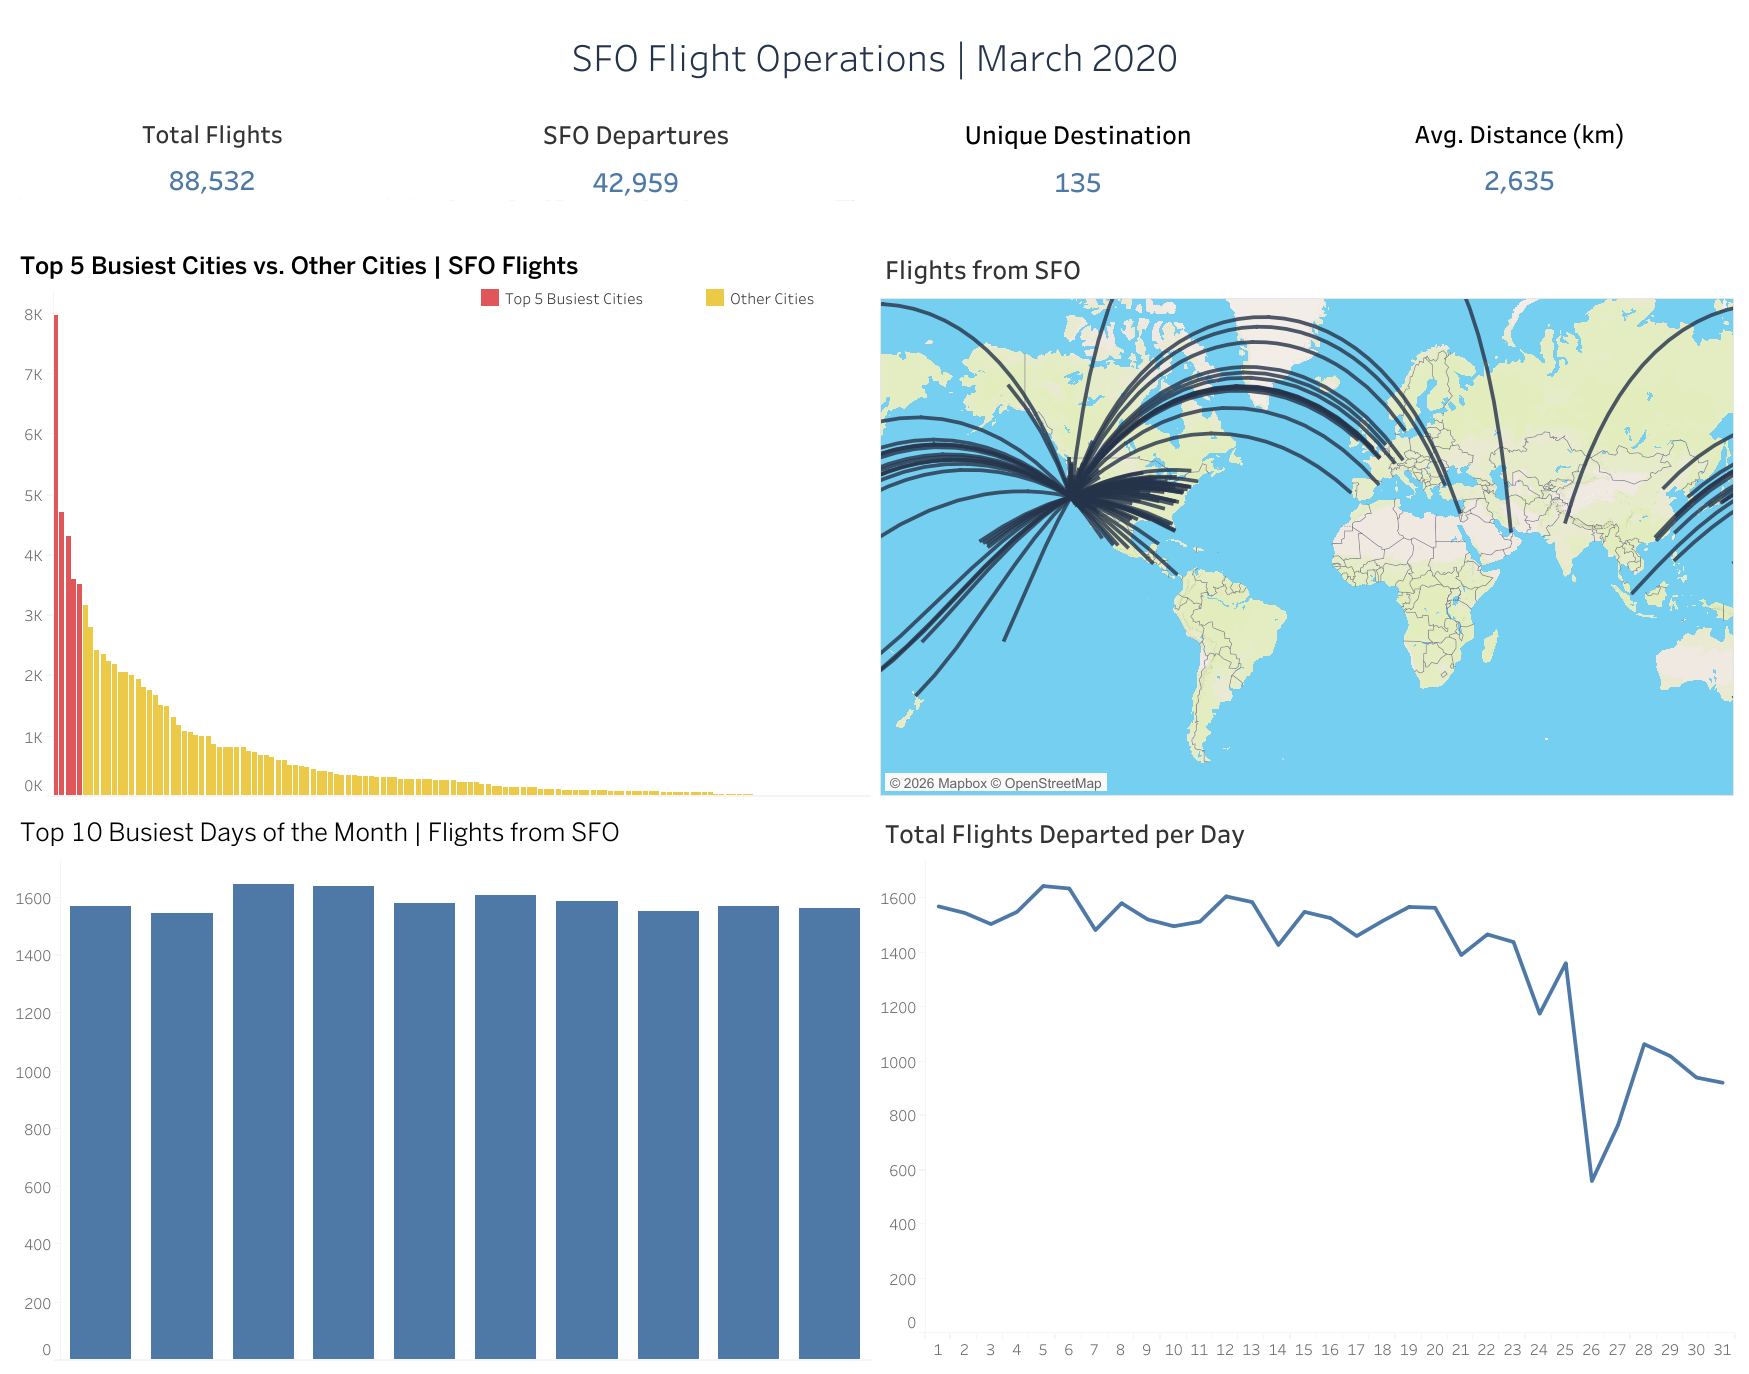

The dashboard page shown, as its layout file describes it:
{"tool":"tableau","page":{"name":"Air Travel (SFO)","canvas":[1400,1100],"ordinal":0},"visuals":[{"type":"title","box":[8,8,1384,75]},{"type":"worksheet","title":"Total Flights","mark":"Automatic","box":[8,83,324,108]},{"type":"worksheet","title":"SFO Departure KPI","mark":"Automatic","box":[332,83,354,108]},{"type":"worksheet","title":"Unique Destination KPI","mark":"Automatic","box":[686,83,353,108]},{"type":"worksheet","title":"Average Flight Distance KPI","mark":"Automatic","box":[1039,83,353,108]},{"type":"worksheet","title":"Top 5 to and From SFO (2)","mark":"Automatic","rows":["Air travel data_DF16FF5C76D146AFAB519985F8D88705"],"cols":["Calculation_0348597137670145"],"box":[8,191,692,450.5]},{"type":"worksheet","title":"Flights from SFO","mark":"Automatic","box":[700,191,692,450.5]},{"type":"legend","title":"Top 5 to and From SFO (2)","param":"[federated.1389jce0n8q0aw17g18pu0xtb5lk].[io:BusyCity Set:nk]","box":[382,228,475,59]},{"type":"worksheet","title":"10 Busy Days","mark":"Bar","rows":["Air travel data_DF16FF5C76D146AFAB519985F8D88705"],"cols":["Date"],"box":[8,641.5,692,450.5]},{"type":"worksheet","title":"Total flights in day","mark":"Automatic","rows":["Air travel data_DF16FF5C76D146AFAB519985F8D88705"],"cols":["Date"],"box":[700,641.5,692,450.5]}]}

Visuals, with their boxes in screenshot pixels (x1, y1, x2, y2), scaled from the page's 1400x1100 canvas onto the 1749x1374 screenshot:
title: left=10, top=10, right=1739, bottom=104
"Total Flights" worksheet: left=10, top=104, right=415, bottom=239
"SFO Departure KPI" worksheet: left=415, top=104, right=857, bottom=239
"Unique Destination KPI" worksheet: left=857, top=104, right=1298, bottom=239
"Average Flight Distance KPI" worksheet: left=1298, top=104, right=1739, bottom=239
"Top 5 to and From SFO (2)" worksheet: left=10, top=239, right=874, bottom=801
"Flights from SFO" worksheet: left=874, top=239, right=1739, bottom=801
"Top 5 to and From SFO (2)" legend: left=477, top=285, right=1071, bottom=358
"10 Busy Days" worksheet (Bar marks): left=10, top=801, right=874, bottom=1364
"Total flights in day" worksheet: left=874, top=801, right=1739, bottom=1364
